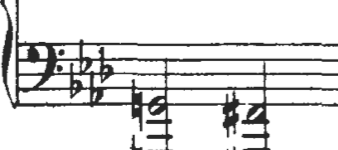bass_clef: (22, 34, 66, 96)
flat: (96, 44, 117, 88), (75, 35, 96, 78), (87, 69, 106, 112), (67, 58, 85, 102)
